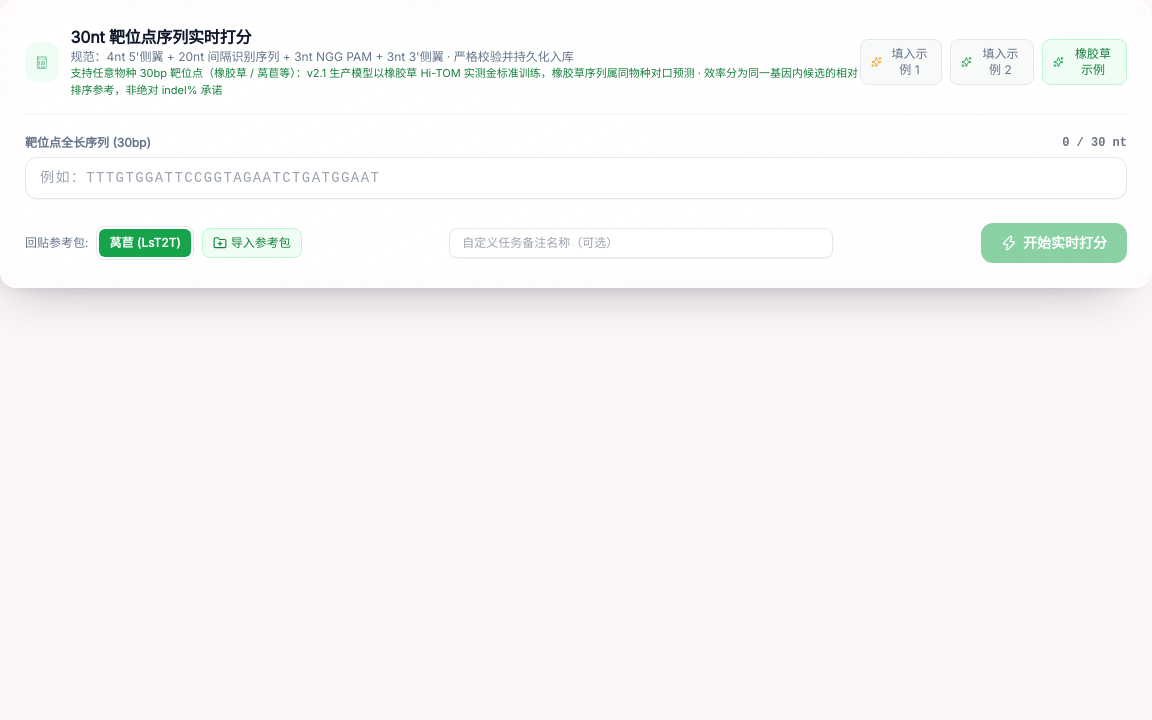
Test: SingleScoringCard › renders bundle-specific priority tissue keys for TKS stage-peak 口径
Click the button "填入示例 1". click: (901, 62)
box: [860, 38, 942, 84]
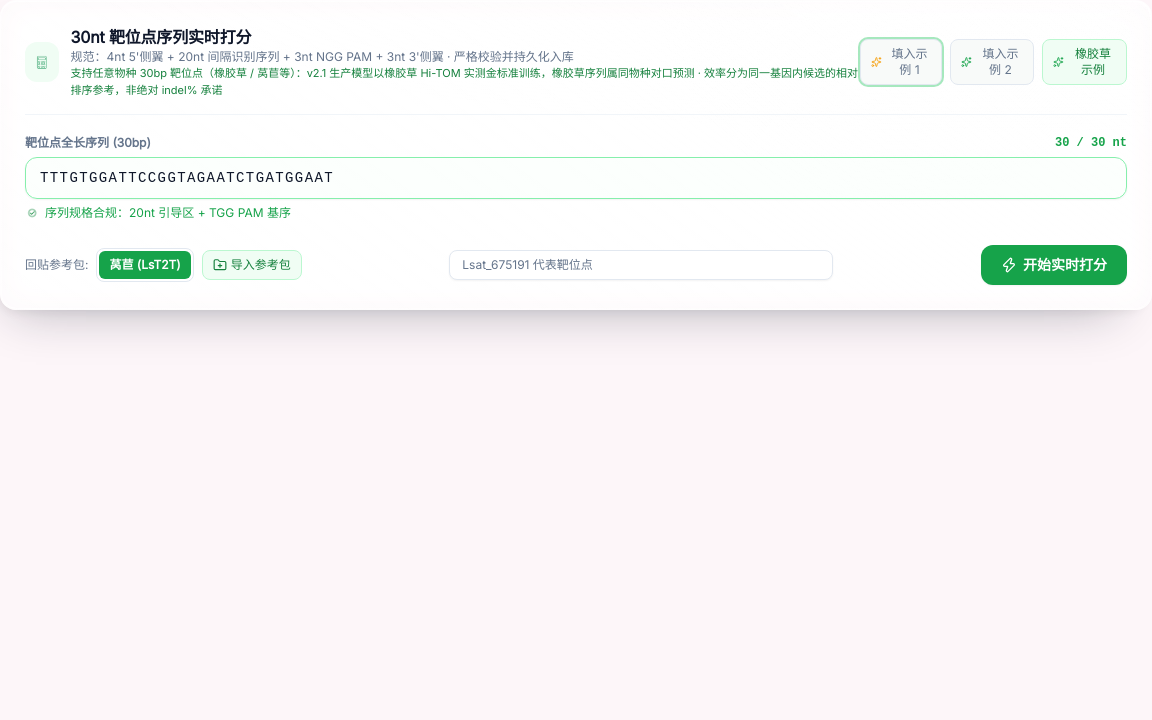
Click the button "开始实时打分". click: (1054, 265)
box: [981, 245, 1127, 285]
(page scrolled)
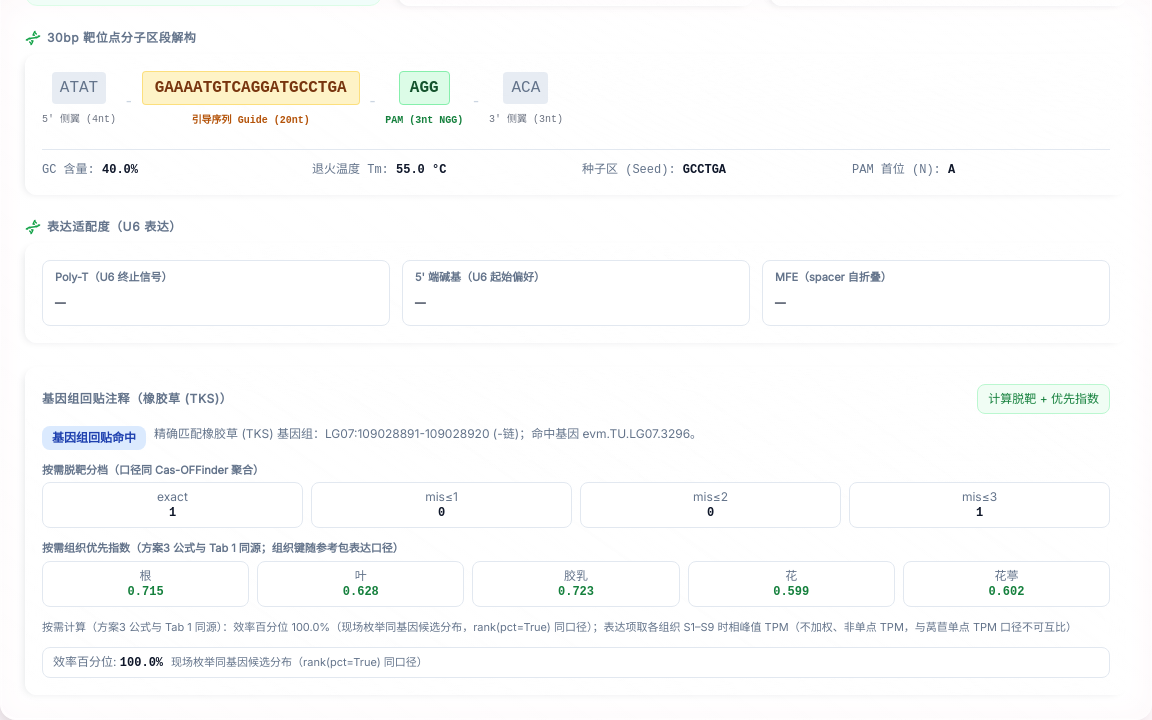
Now the text "按需组织优先指数（方案3 公式与 Tab 1 同源；组织键随参考包表达口径）" is shown, box [42, 541, 404, 555]
Now the text "根" is shown, box [140, 568, 152, 582]
Now the text "叶" is shown, box [355, 568, 367, 582]
